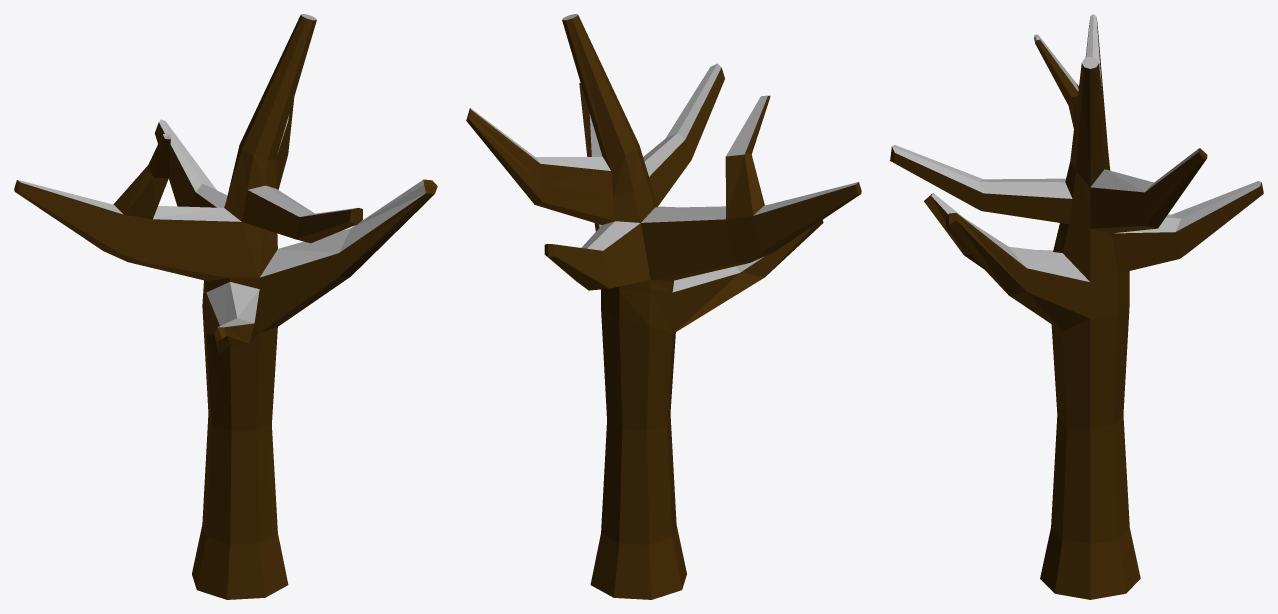
Rendered from tree3.dae.
3 views of the same model, side by side, from view 1: azimuth 30°, elevation 25°; view 2: azimuth 150°, elevation 25°; view 3: azimuth 270°, elevation 25° (orthographic).
Visible parts, largest first — view 1: Arbre_Automne; view 2: Arbre_Automne; view 3: Arbre_Automne.
Part boxes in pixels (x1=…): Arbre_Automne: x1=14, y1=14, x2=437, y2=599; Arbre_Automne: x1=466, y1=14, x2=861, y2=599; Arbre_Automne: x1=890, y1=14, x2=1263, y2=599.
Size of the model in its own units: 2.37 by 2.16 by 3.53.
